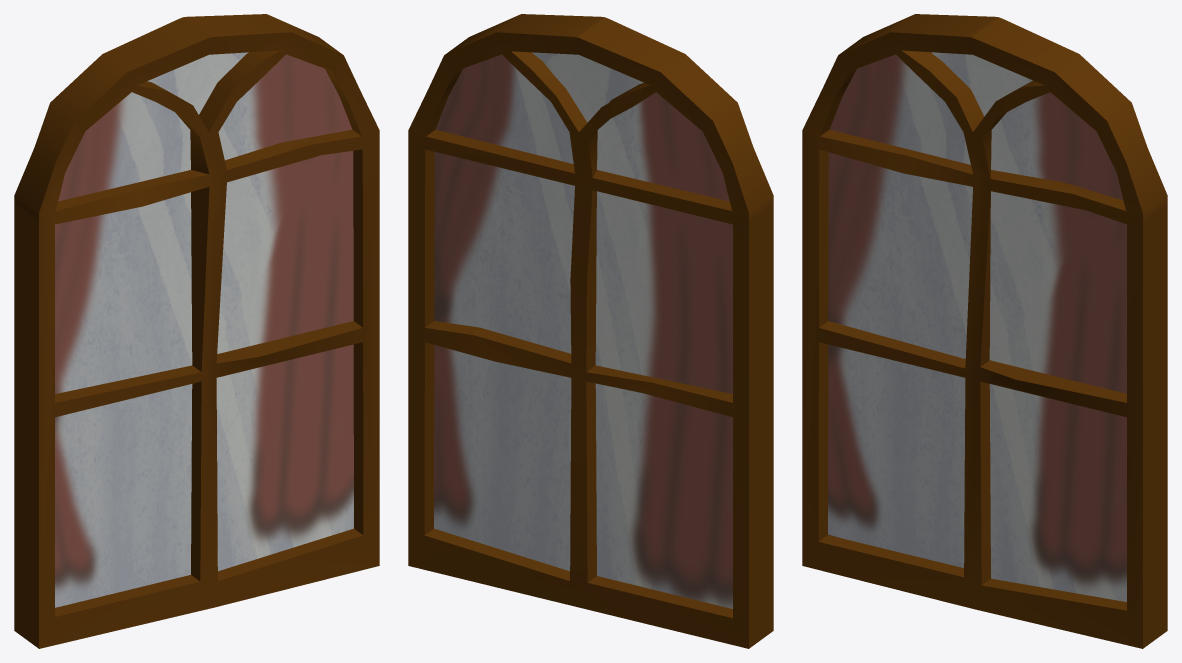
The model's file is MausoleumWindowV1.fbx.
The picture shows the model from 3 angles, left to right: view 1: azimuth 30°, elevation 25°; view 2: azimuth 150°, elevation 25°; view 3: azimuth 330°, elevation 25°; orthographic projection.
Visible parts, largest first — view 1: windowR2.003; view 2: windowR2.003; view 3: windowR2.003.
Part boxes in pixels (x1=…): windowR2.003: x1=14, y1=14, x2=379, y2=648; windowR2.003: x1=408, y1=14, x2=773, y2=648; windowR2.003: x1=802, y1=14, x2=1167, y2=648.
Bounding box in the file's own units: 80.99 × 130 × 12.87.
